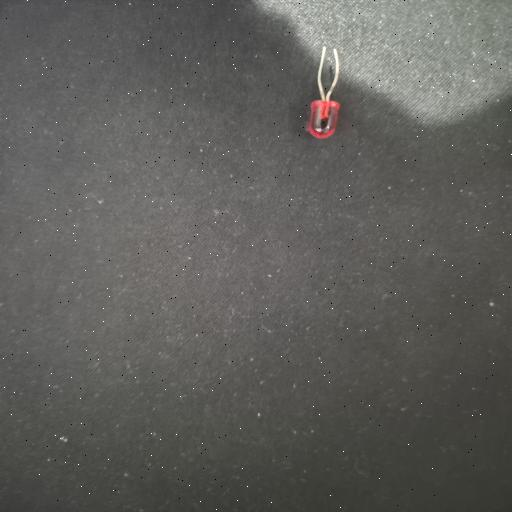led-diode: (306, 47, 340, 138)
